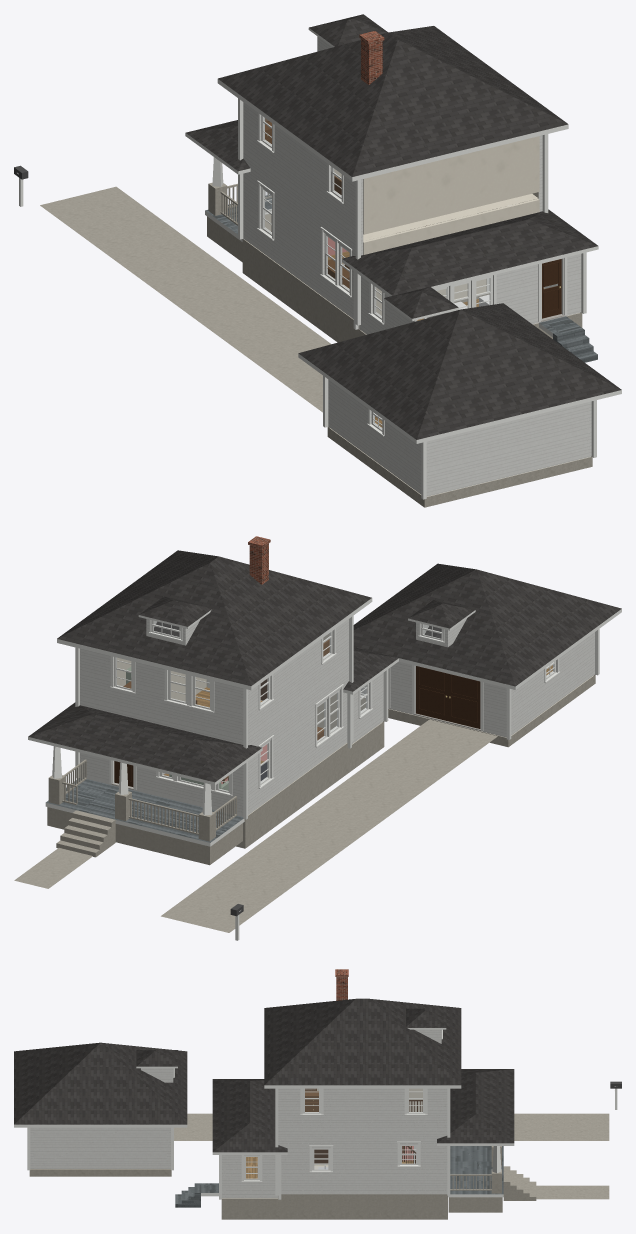
File: P-HOUSE3.glb
The picture shows the model from 3 angles, top to bottom: view 1: azimuth 30°, elevation 25°; view 2: azimuth 150°, elevation 25°; view 3: azimuth 270°, elevation 25°; orthographic projection. The views are drawn at different scales.
Parts seen in each view (by area): view 1: shell-col, roof_main-col, roof_garage-col, driveway-col, partitions-col, roof_backporch-col, windows, dormers-col, porch_0-col, floors-col, glass, porch_0_roof-col (+4 smaller); view 2: shell-col, roof_main-col, roof_garage-col, driveway-col, porch_0-col, porch_0_roof-col, windows, dormers-col, glass, door_garage_main_L__n, door_garage_main_R__p, walk-col (+5 smaller); view 3: shell-col, roof_main-col, roof_garage-col, porch_0_roof-col, roof_backporch-col, porch_0-col, driveway-col, dormers-col, windows, walk-col, glass, porch_1-col (+2 smaller).
Boxes of the visible parts, bbox=[...] form: shell-col: bbox=[238, 98, 596, 507]; roof_main-col: bbox=[217, 26, 568, 181]; roof_garage-col: bbox=[298, 303, 621, 443]; driveway-col: bbox=[40, 186, 331, 412]; partitions-col: bbox=[334, 136, 539, 315]; roof_backporch-col: bbox=[342, 209, 598, 296]; windows: bbox=[257, 113, 507, 436]; dormers-col: bbox=[308, 14, 458, 326]; porch_0-col: bbox=[205, 157, 271, 262]; floors-col: bbox=[245, 194, 590, 496]; glass: bbox=[264, 118, 489, 428]; porch_0_roof-col: bbox=[185, 120, 250, 174]; shell-col: bbox=[75, 615, 599, 848]; roof_main-col: bbox=[57, 550, 372, 690]; roof_garage-col: bbox=[353, 563, 621, 689]; driveway-col: bbox=[161, 719, 497, 932]; porch_0-col: bbox=[45, 746, 244, 865]; porch_0_roof-col: bbox=[28, 702, 262, 785]; windows: bbox=[110, 619, 559, 796]; dormers-col: bbox=[138, 596, 475, 647]; glass: bbox=[117, 621, 553, 790]; door_garage_main_L__n: bbox=[416, 666, 448, 721]; door_garage_main_R__p: bbox=[448, 674, 480, 728]; walk-col: bbox=[14, 848, 92, 888]; shell-col: bbox=[27, 1088, 450, 1219]; roof_main-col: bbox=[264, 998, 461, 1088]; roof_garage-col: bbox=[14, 1042, 187, 1127]; porch_0_roof-col: bbox=[437, 1069, 514, 1145]; roof_backporch-col: bbox=[212, 1079, 287, 1154]; porch_0-col: bbox=[448, 1146, 536, 1212]; driveway-col: bbox=[174, 1113, 609, 1140]; dormers-col: bbox=[136, 1008, 446, 1082]; windows: bbox=[173, 1029, 442, 1181]; walk-col: bbox=[536, 1185, 609, 1199]; glass: bbox=[246, 1089, 422, 1178]; porch_1-col: bbox=[175, 1183, 218, 1207].
Size of what is drawn, in the model's own units: 11.81 by 9.63 by 26.3.
Materials: 28 (13 with a texture image).
